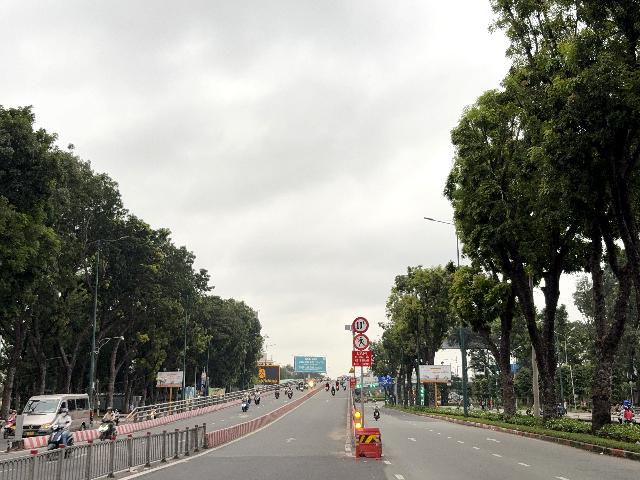cam-nguoi-di-bo: (353, 334, 369, 350)
han-che-trong-luong-xe: (352, 317, 369, 333)
